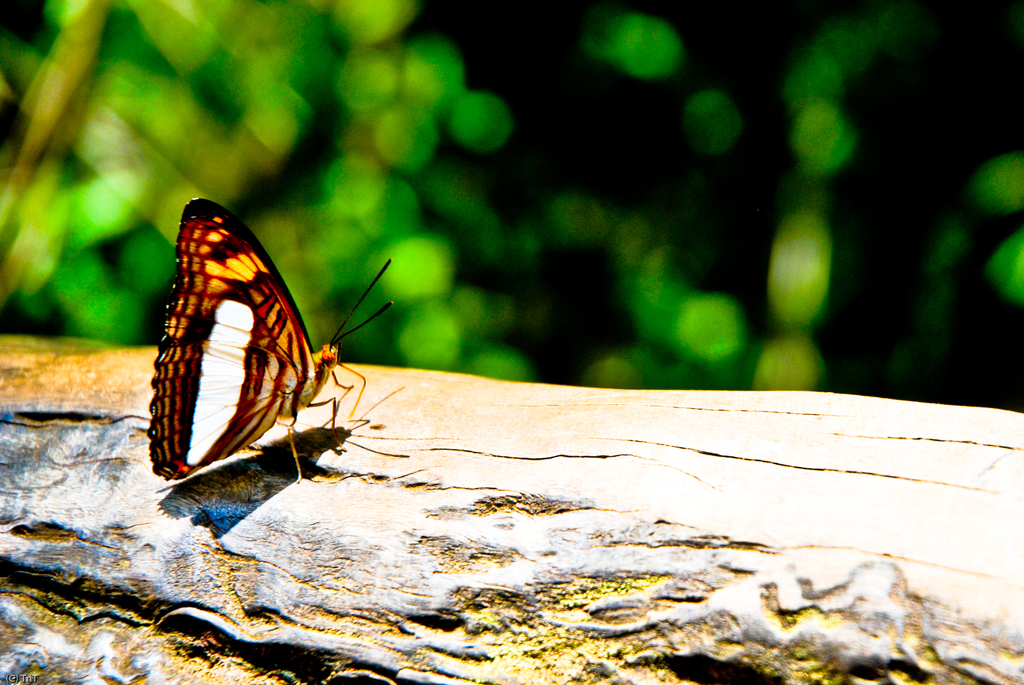Butterfly: (131, 189, 408, 529)
